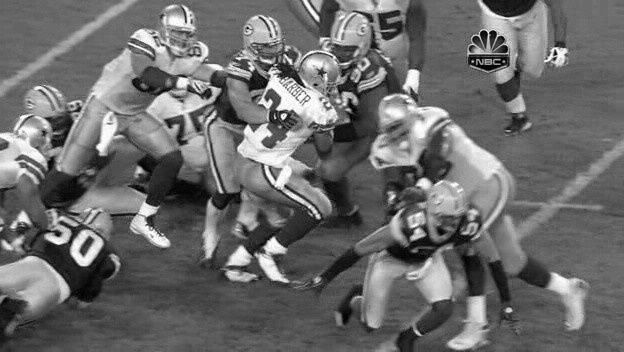person: (306, 53, 341, 97), (305, 53, 340, 97), (307, 53, 342, 97), (306, 52, 341, 96), (306, 54, 341, 98)
target_negative: (40, 233, 522, 319), (221, 241, 424, 342), (204, 267, 438, 320), (255, 35, 534, 40), (318, 322, 362, 350), (601, 122, 619, 176)
